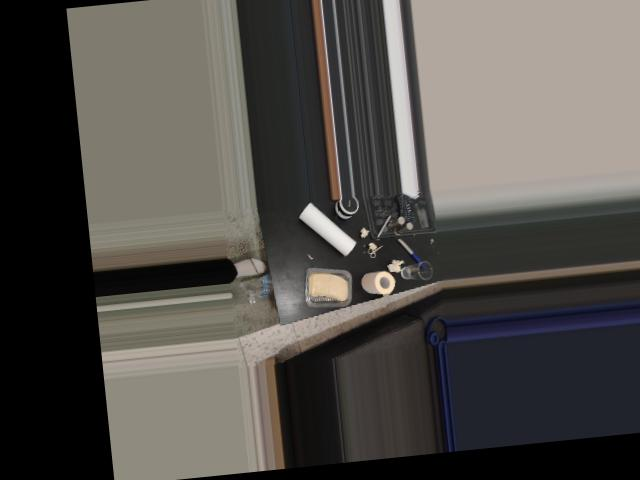cheese: (297, 262, 356, 312)
